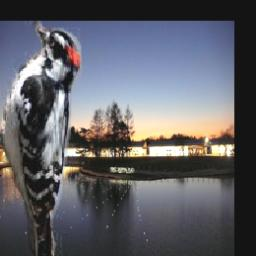Woodpecker: (0, 21, 82, 256)
